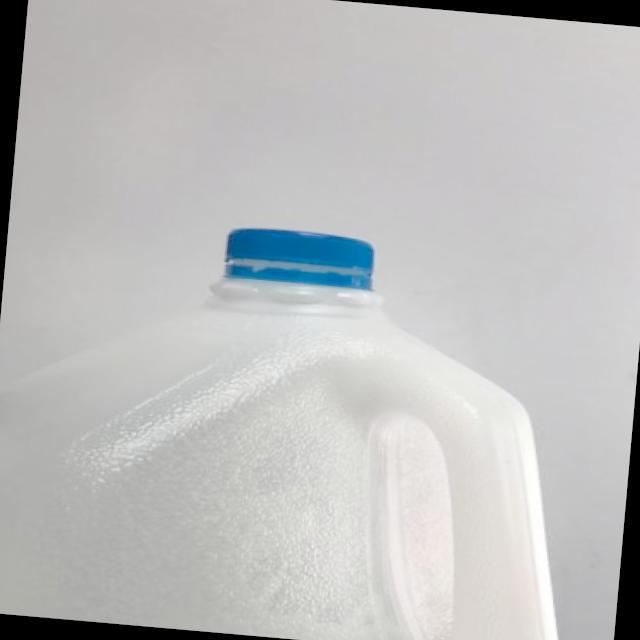HDPE Plastic: (0, 225, 562, 639)
